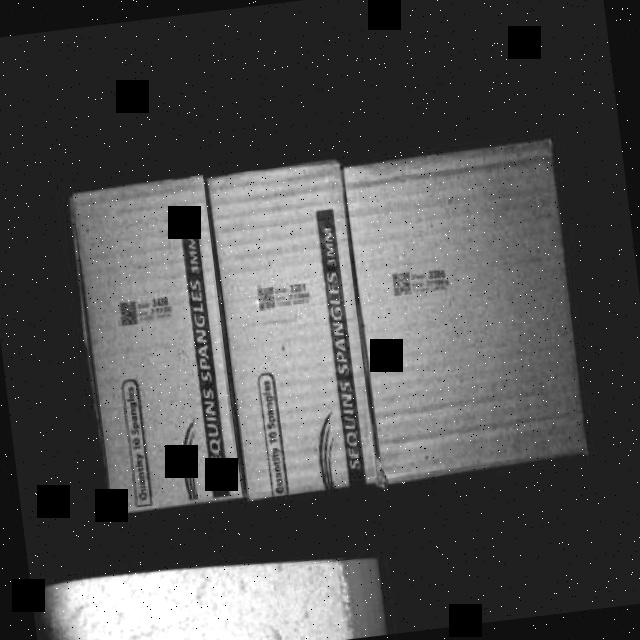box: (350, 143, 588, 478), (214, 160, 384, 504), (78, 183, 238, 511)
